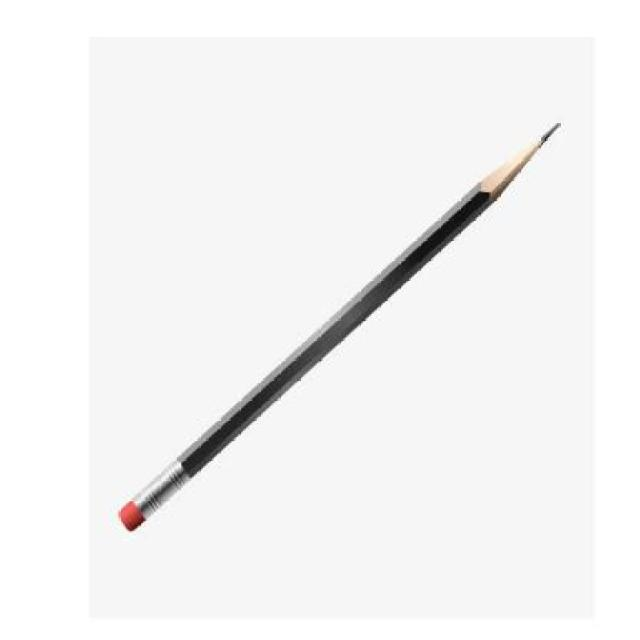pencil: (104, 106, 577, 546)
